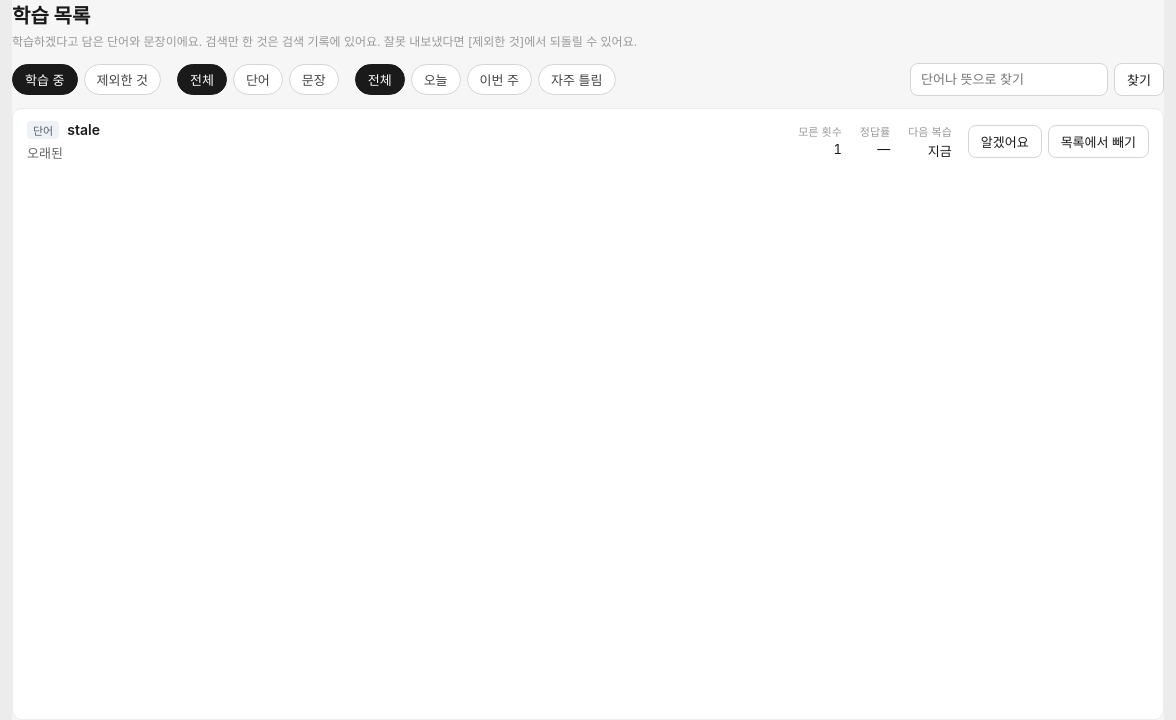
Test: Learning › 액션이 실패하면 항목을 지우지 않고 이유를 보여준다
The width and height of the screenshot is (1176, 720).
expect the text "stale" is shown: met, box [67, 121, 100, 138]
Click the button "알겠어요" at (1005, 142), box [968, 125, 1042, 158]
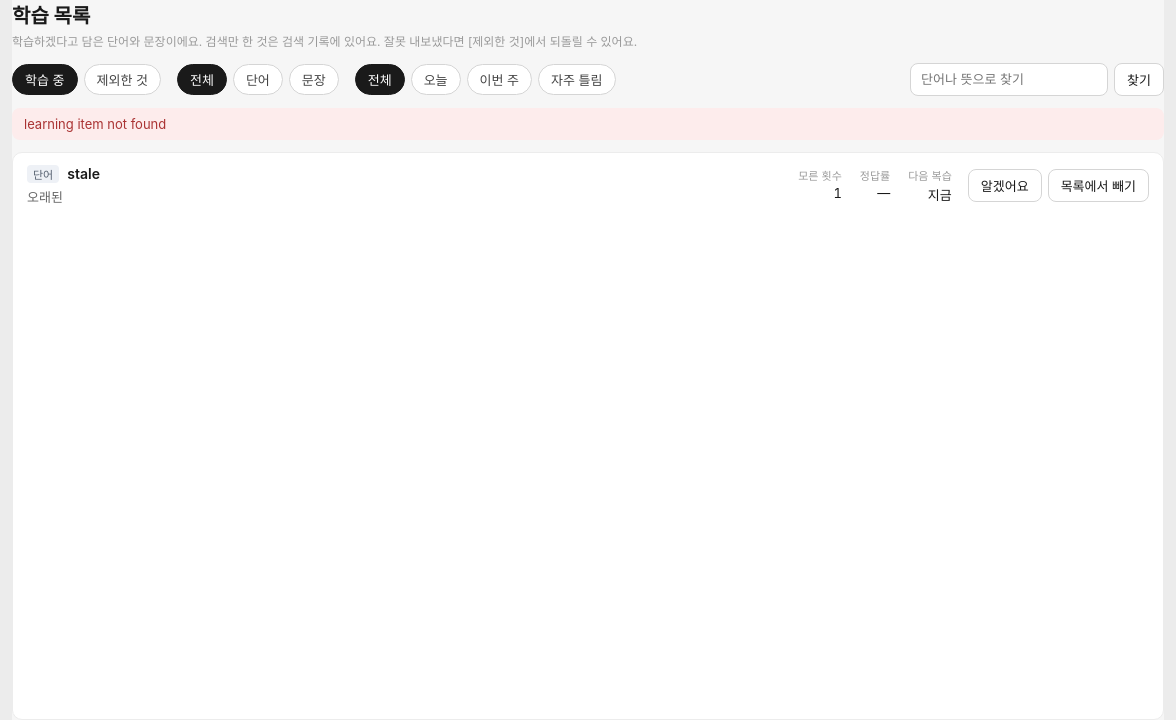
expect the text "stale" is shown: met, box [67, 165, 100, 182]
expect the text "learning item not found" is shown: met, box [12, 108, 1164, 140]
